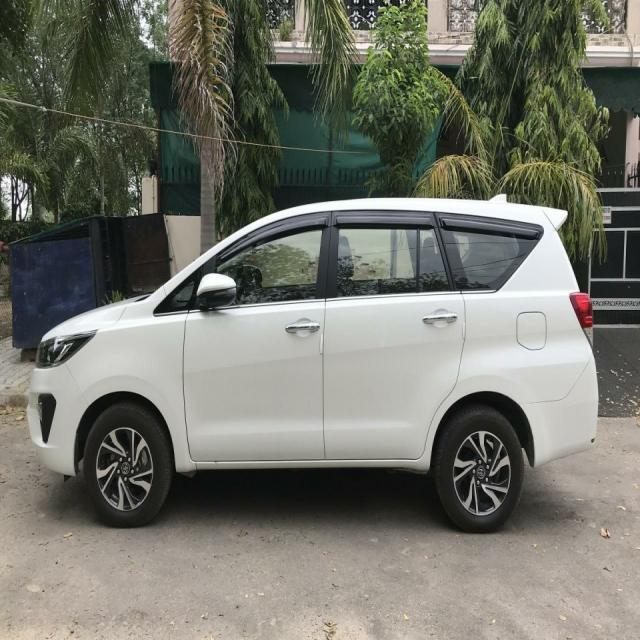light_vehicle: (25, 194, 599, 534)
